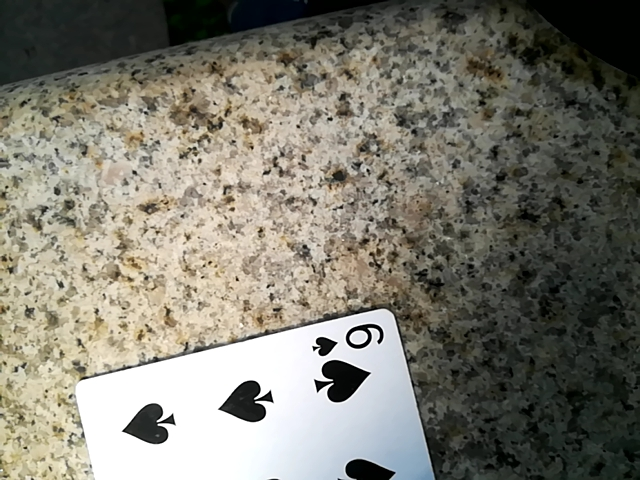ht 6: (57, 316, 452, 480)
